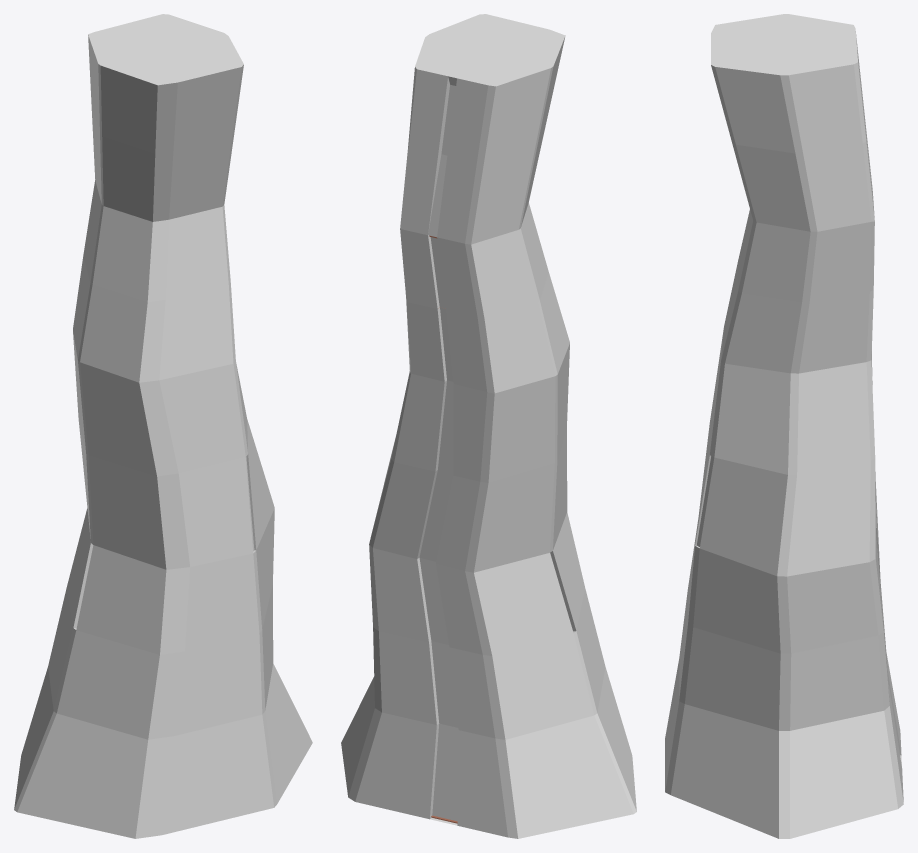
Rendered from resource__surrounding__tree_trunk_1.fbx.
3 views of the same model, side by side, from view 1: azimuth 30°, elevation 25°; view 2: azimuth 150°, elevation 25°; view 3: azimuth 270°, elevation 25° (orthographic).
Parts seen in each view (by area): view 1: Map_Surrounding_TreeTrunk_1; view 2: Map_Surrounding_TreeTrunk_1; view 3: Map_Surrounding_TreeTrunk_1.
Boxes of the visible parts, x1,y1,x2,y2 form: Map_Surrounding_TreeTrunk_1: (14,14,312,838); Map_Surrounding_TreeTrunk_1: (341,14,636,838); Map_Surrounding_TreeTrunk_1: (665,14,903,838).
Bounding box in the file's own units: 260 × 619 × 184.
